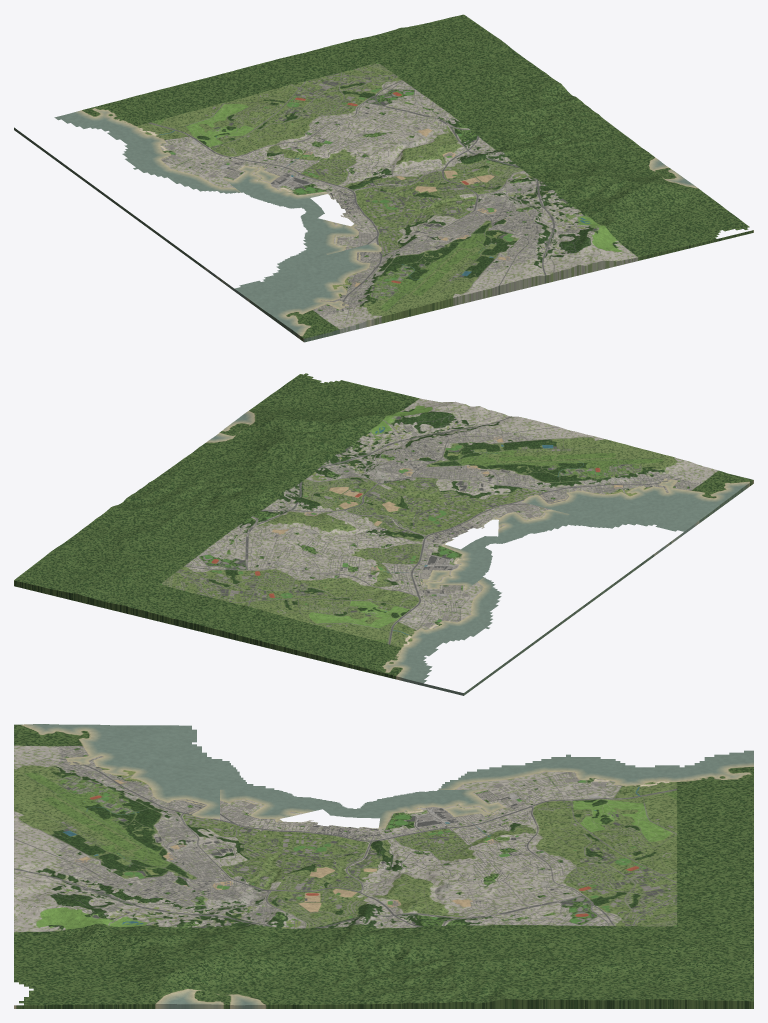
Rendered from ArahaTown_Ground.gltf.
The picture shows the model from 3 angles, top to bottom: view 1: azimuth 30°, elevation 25°; view 2: azimuth 150°, elevation 25°; view 3: azimuth 270°, elevation 25°; orthographic projection. The views are drawn at different scales.
Parts seen in each view (by area): view 1: ArahaTown_Ground; view 2: ArahaTown_Ground; view 3: ArahaTown_Ground.
Part boxes in pixels (x1,y1,x2,y2): ArahaTown_Ground: (14, 14, 753, 342); ArahaTown_Ground: (14, 373, 753, 695); ArahaTown_Ground: (14, 724, 753, 1008).
Bounding box in the file's own units: 8568 × 232 × 9576.
22 materials, 22 textured.
